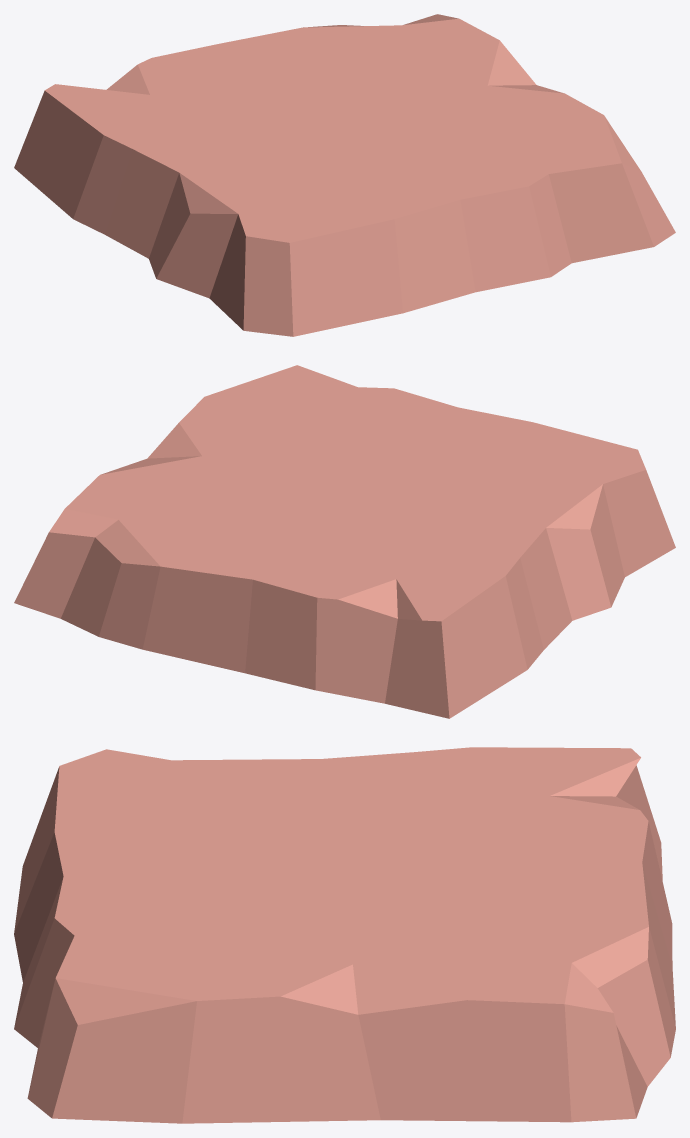
Rendered from SuperGrid_Cube12.fbx.
3 renders of one model, top to bottom at view 1: azimuth 30°, elevation 25°; view 2: azimuth 150°, elevation 25°; view 3: azimuth 270°, elevation 25°, orthographic. The views are drawn at different scales.
Visible parts, largest first — view 1: SuperGrid_Cube12; view 2: SuperGrid_Cube12; view 3: SuperGrid_Cube12.
Boxes of the visible parts, x1=… form: SuperGrid_Cube12: x1=14, y1=14, x2=675, y2=336; SuperGrid_Cube12: x1=14, y1=365, x2=675, y2=718; SuperGrid_Cube12: x1=14, y1=747, x2=675, y2=1123.
Size of the model in its own units: 575 by 100 by 562.
